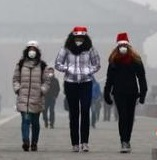person: (54, 25, 102, 153), (103, 30, 147, 154), (13, 40, 46, 152), (43, 65, 60, 130), (90, 75, 100, 129), (103, 103, 113, 122), (97, 91, 102, 123)
